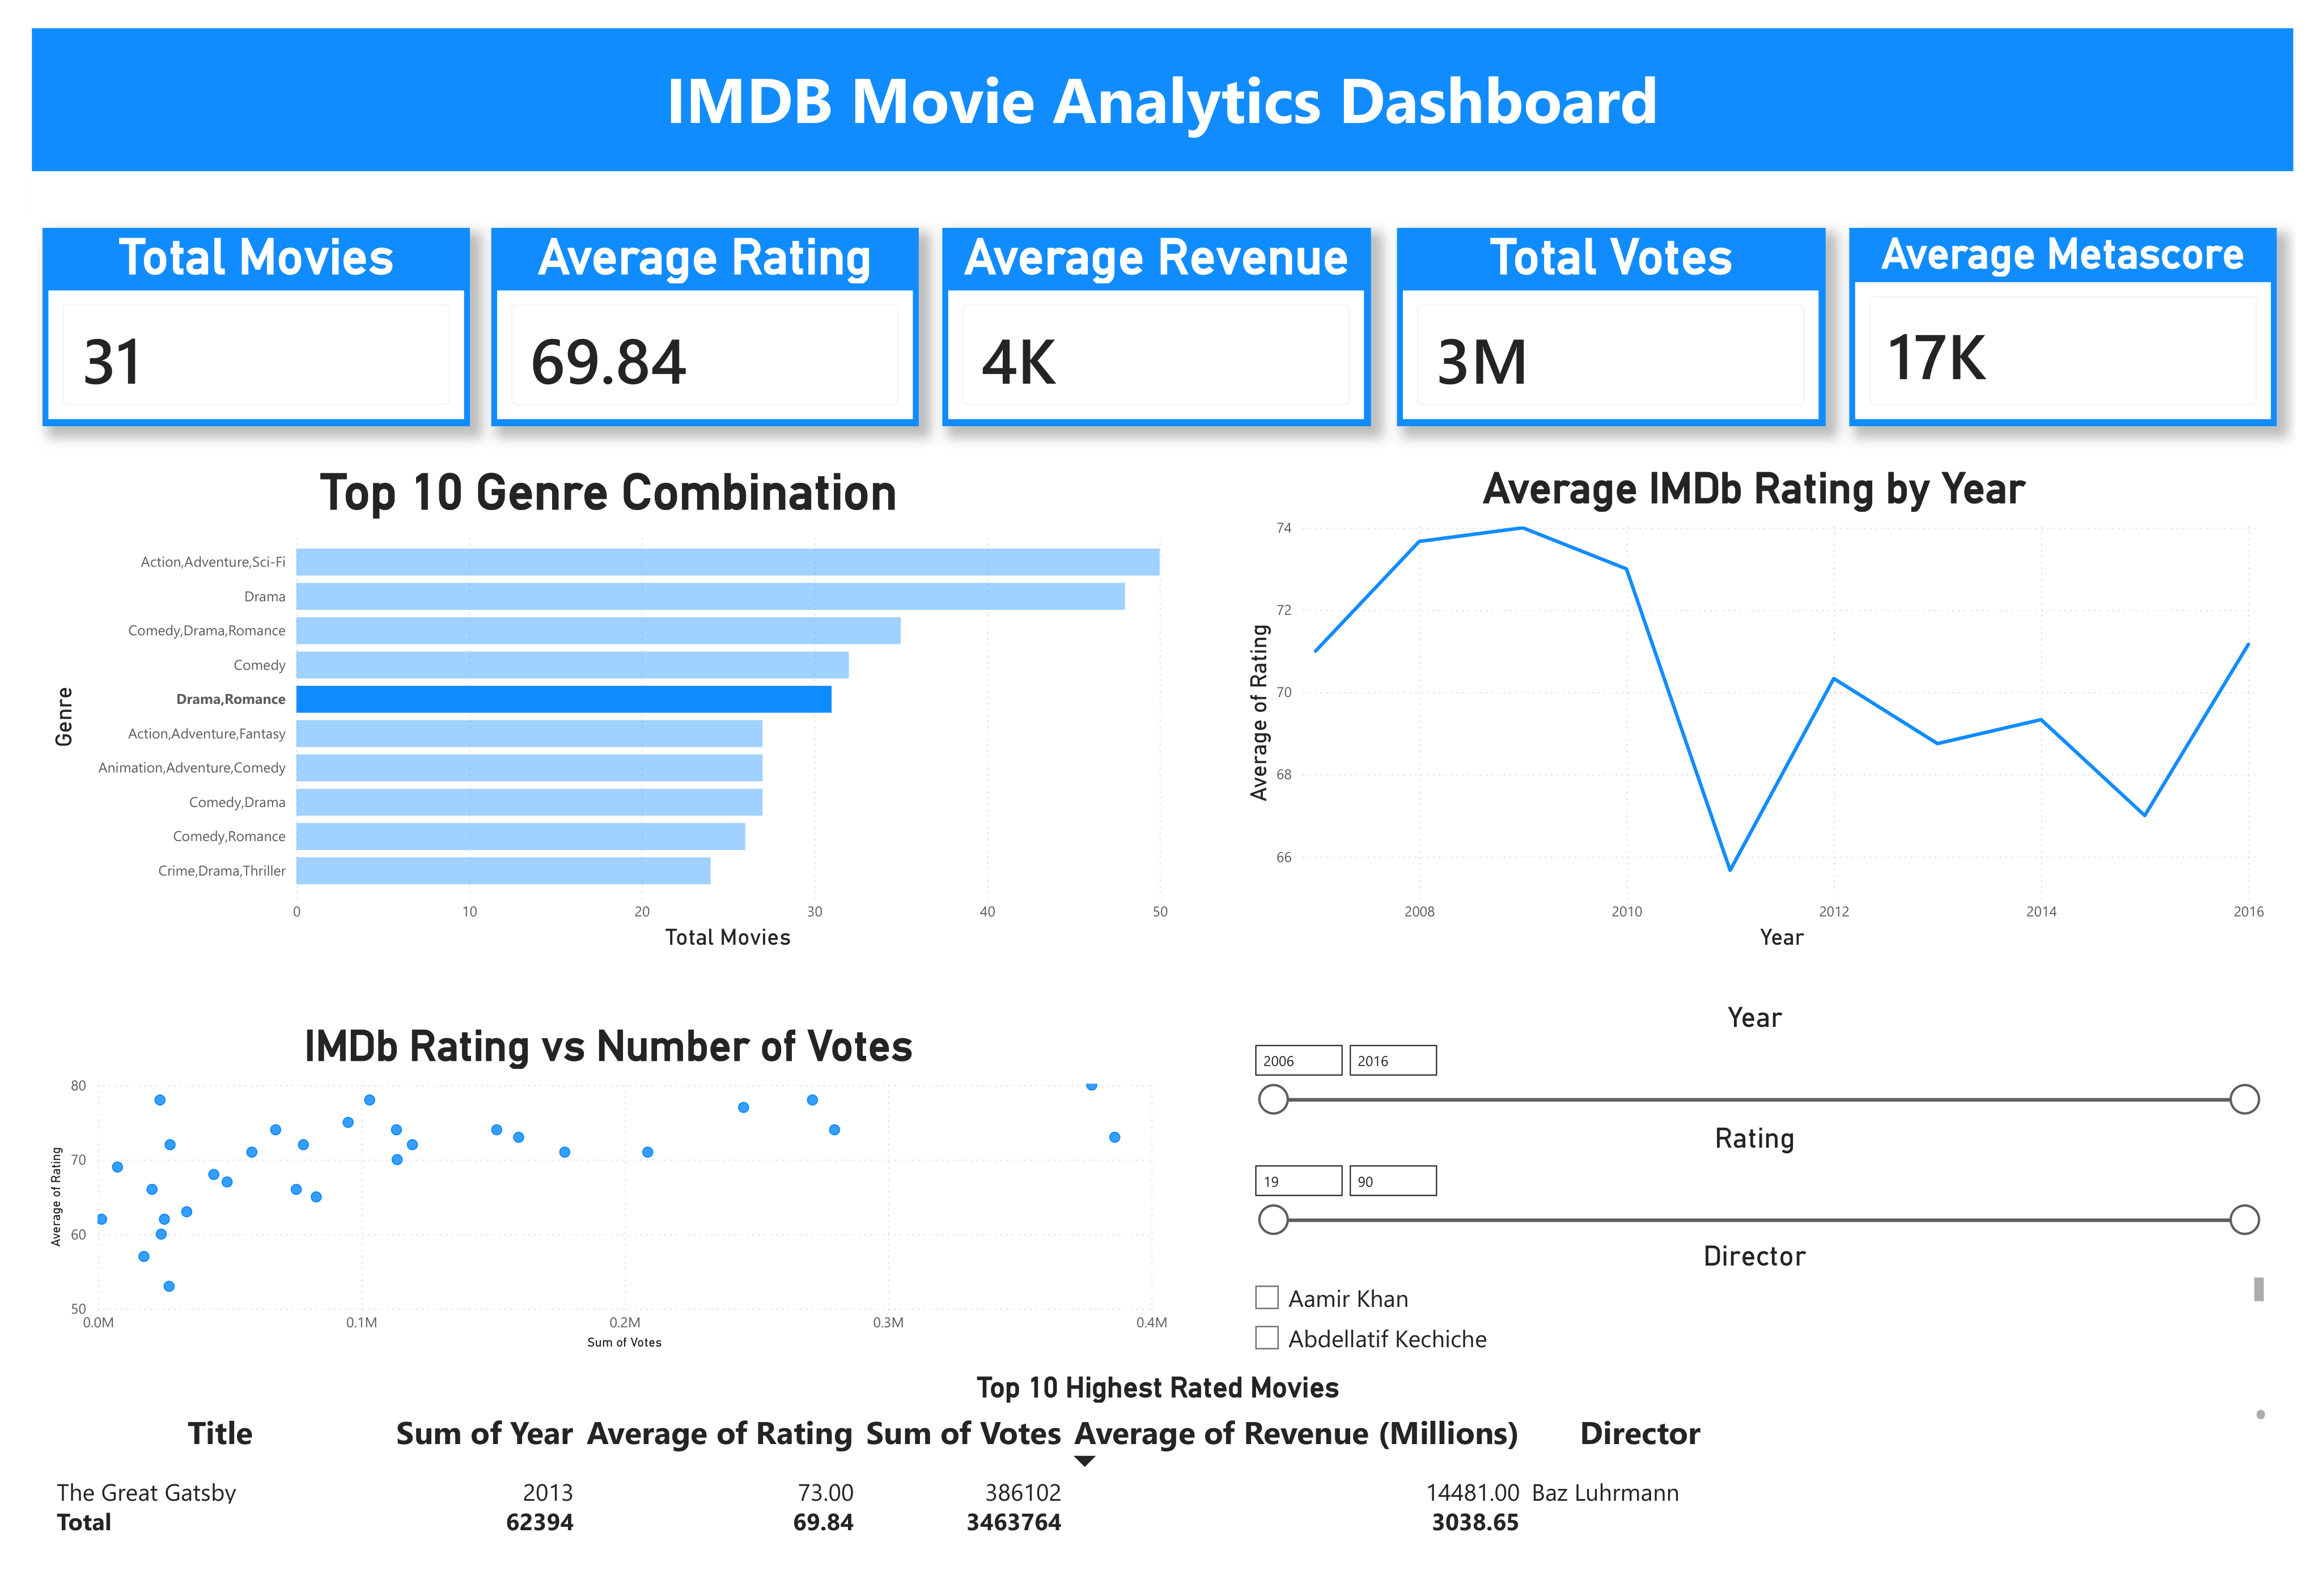

Layout of this report page (visuals, bound fields, positions):
{"tool":"powerbi","page":{"name":"IMDb Movie Dashboard","canvas":[1920,1300],"ordinal":0},"visuals":[{"type":"textbox","box":[2.5,0,1915,120.8],"z":0},{"type":"cardVisual","title":"Total Movies","fields":{"Data":["imdb_movie_dataset_clean.Total Movies"]},"box":[11.7,169.2,362.5,167.5],"z":1000},{"type":"cardVisual","title":"Average Rating","fields":{"Data":["Avg(imdb_movie_dataset_clean.Rating)"]},"box":[391.7,169.2,362.5,167.5],"z":2000},{"type":"cardVisual","title":"Average Revenue","fields":{"Data":["Sum(imdb_movie_dataset_clean.Runtime (Minutes))"]},"box":[774.2,169.2,362.5,167.5],"z":3000},{"type":"cardVisual","title":"Total Votes","fields":{"Data":["Sum(imdb_movie_dataset_clean.Votes)"]},"box":[1159.2,169.2,362.5,167.5],"z":4000},{"type":"cardVisual","title":"Average Metascore","fields":{"Data":["Sum(imdb_movie_dataset_clean.Metascore)"]},"box":[1541.7,169.2,362.5,167.5],"z":5000},{"type":"clusteredBarChart","title":"Top 10 Genre Combination","fields":{"Category":["imdb_movie_dataset_clean.Genre"],"Y":["imdb_movie_dataset_clean.Total Movies"]},"box":[12.5,367.5,957.5,417.5],"z":6000},{"type":"lineChart","title":"Average IMDb Rating by Year","fields":{"Category":["imdb_movie_dataset_clean.Year"],"Y":["Avg(imdb_movie_dataset_clean.Rating)"]},"box":[1025,367.5,872.5,417.5],"z":7000},{"type":"scatterChart","title":"IMDb Rating vs Number of Votes","fields":{"X":["Sum(imdb_movie_dataset_clean.Votes)"],"Y":["Avg(imdb_movie_dataset_clean.Rating)"],"Category":["imdb_movie_dataset_clean.Title"]},"box":[13.3,840,956.7,283.3],"z":8000},{"type":"tableEx","title":"Top 10 Highest Rated Movies","fields":{"Values":["imdb_movie_dataset_clean.Title","Sum(imdb_movie_dataset_clean.Year)","Avg(imdb_movie_dataset_clean.Rating)","Sum(imdb_movie_dataset_clean.Votes)","Avg(imdb_movie_dataset_clean.Revenue (Millions))","imdb_movie_dataset_clean.Director"]},"box":[13.3,1136.7,1886.7,146.7],"z":9000},{"type":"slicer","title":"Year","fields":{"Values":["imdb_movie_dataset_clean.Year"]},"box":[1026,824,872,110],"z":9001},{"type":"slicer","title":"Rating","fields":{"Values":["imdb_movie_dataset_clean.Rating"]},"box":[1026,926,872,110],"z":9002},{"type":"slicer","title":"Director","fields":{"Values":["imdb_movie_dataset_clean.Director"]},"box":[1026,1026,872,110],"z":9003}]}

Visuals, with their boxes on the page's 1920x1300 design canvas (x1, y1, x2, y2). These are canvas units, not pixel positions in the 2324x1592 screenshot, which may show the page scaled, cropped or inside an application window:
textbox: bbox=[2, 0, 1918, 121]
"Total Movies" cardVisual: bbox=[12, 169, 374, 337]
"Average Rating" cardVisual: bbox=[392, 169, 754, 337]
"Average Revenue" cardVisual: bbox=[774, 169, 1137, 337]
"Total Votes" cardVisual: bbox=[1159, 169, 1522, 337]
"Average Metascore" cardVisual: bbox=[1542, 169, 1904, 337]
"Top 10 Genre Combination" clusteredBarChart: bbox=[12, 368, 970, 785]
"Average IMDb Rating by Year" lineChart: bbox=[1025, 368, 1898, 785]
"IMDb Rating vs Number of Votes" scatterChart: bbox=[13, 840, 970, 1123]
"Top 10 Highest Rated Movies" tableEx: bbox=[13, 1137, 1900, 1283]
"Year" slicer: bbox=[1026, 824, 1898, 934]
"Rating" slicer: bbox=[1026, 926, 1898, 1036]
"Director" slicer: bbox=[1026, 1026, 1898, 1136]
